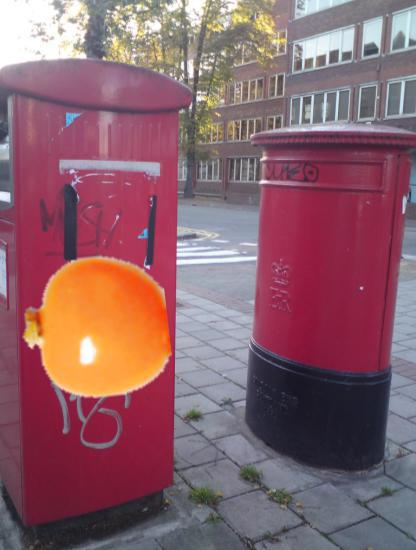Banana: (105, 298, 163, 356)
Physalis: (20, 252, 168, 400)
